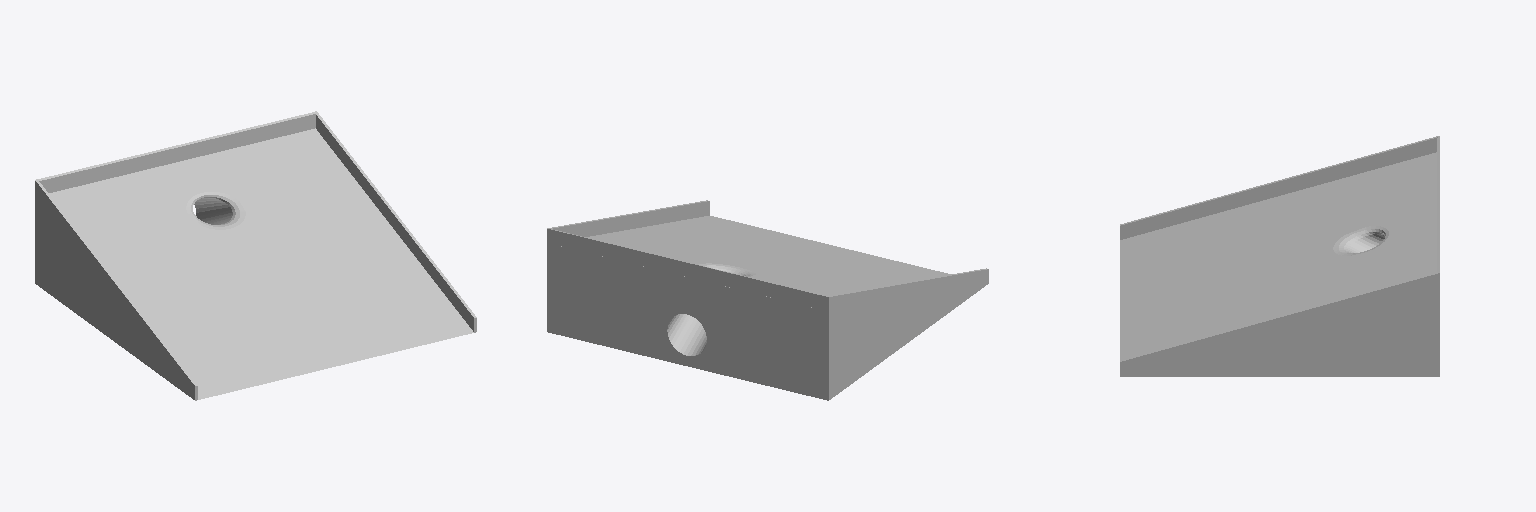
File: ramp_hole.obj
The picture shows the model from 3 angles: view 1: azimuth 30°, elevation 25°; view 2: azimuth 150°, elevation 25°; view 3: azimuth 270°, elevation 25°; orthographic projection.
Visible parts, largest first — view 1: Cube.001_Cube.002; view 2: Cube.001_Cube.002; view 3: Cube.001_Cube.002.
Part boxes in pixels (left/top/right/bottom): Cube.001_Cube.002: left=35, top=111, right=476, bottom=400; Cube.001_Cube.002: left=547, top=200, right=988, bottom=400; Cube.001_Cube.002: left=1120, top=136, right=1439, bottom=376.
Bounding box in the file's own units: 4.06 × 1.43 × 4.